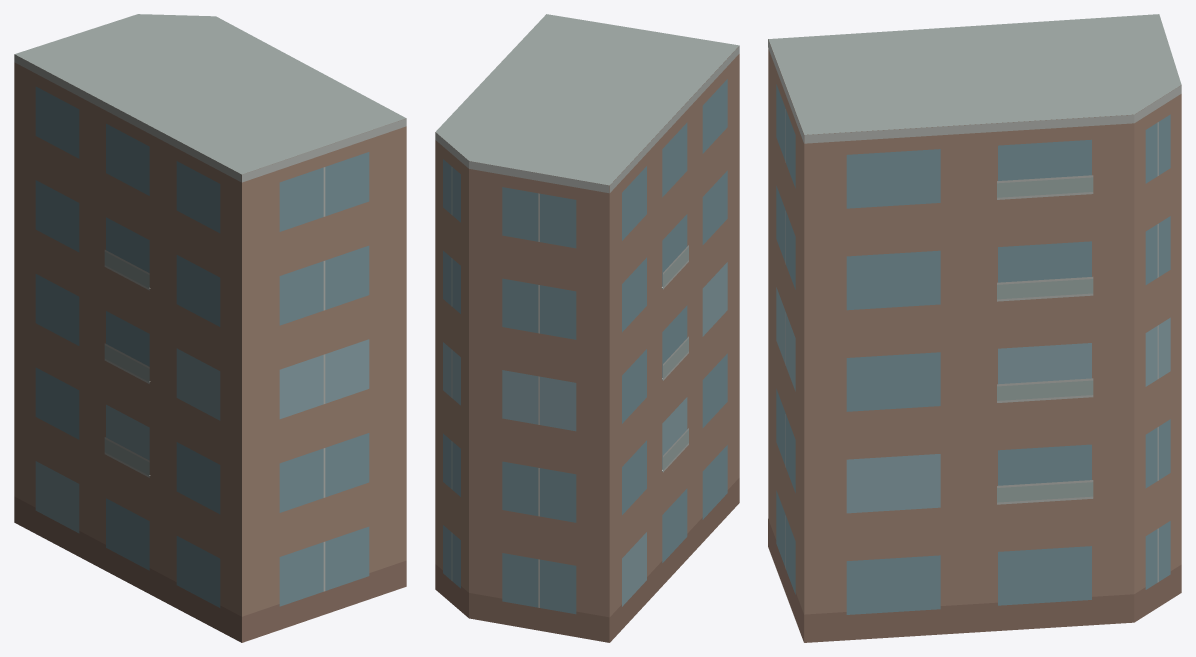
File: survey-upis-32576568.glb
3 views of the same model, side by side, from view 1: azimuth 30°, elevation 25°; view 2: azimuth 150°, elevation 25°; view 3: azimuth 270°, elevation 25° (orthographic). The views are drawn at different scales.
Visible parts, largest first — view 1: survey-upis-32576568.tmp; view 2: survey-upis-32576568.tmp; view 3: survey-upis-32576568.tmp.
Boxes of the visible parts, <box> form: survey-upis-32576568.tmp: <box>14,14,406,642</box>; survey-upis-32576568.tmp: <box>435,14,739,642</box>; survey-upis-32576568.tmp: <box>768,14,1181,642</box>.
Bounding box in the file's own units: 7.26 × 14.2 × 10.48.
